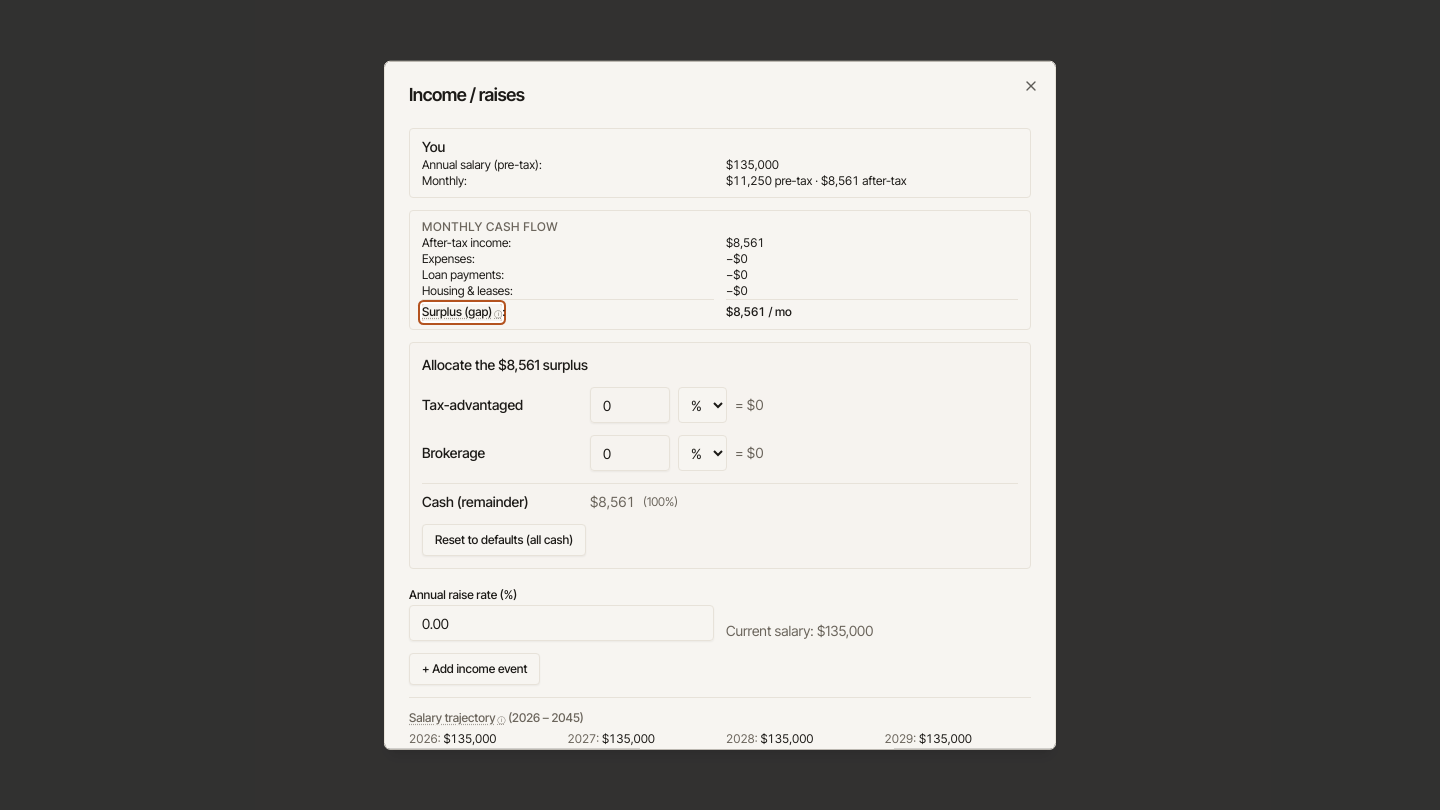
Test case: IncomePopover › sabbatical event renders the duration field
Click the button "+ Add income event" at (475, 669), box top-left (409, 653), bottom-right (540, 685)
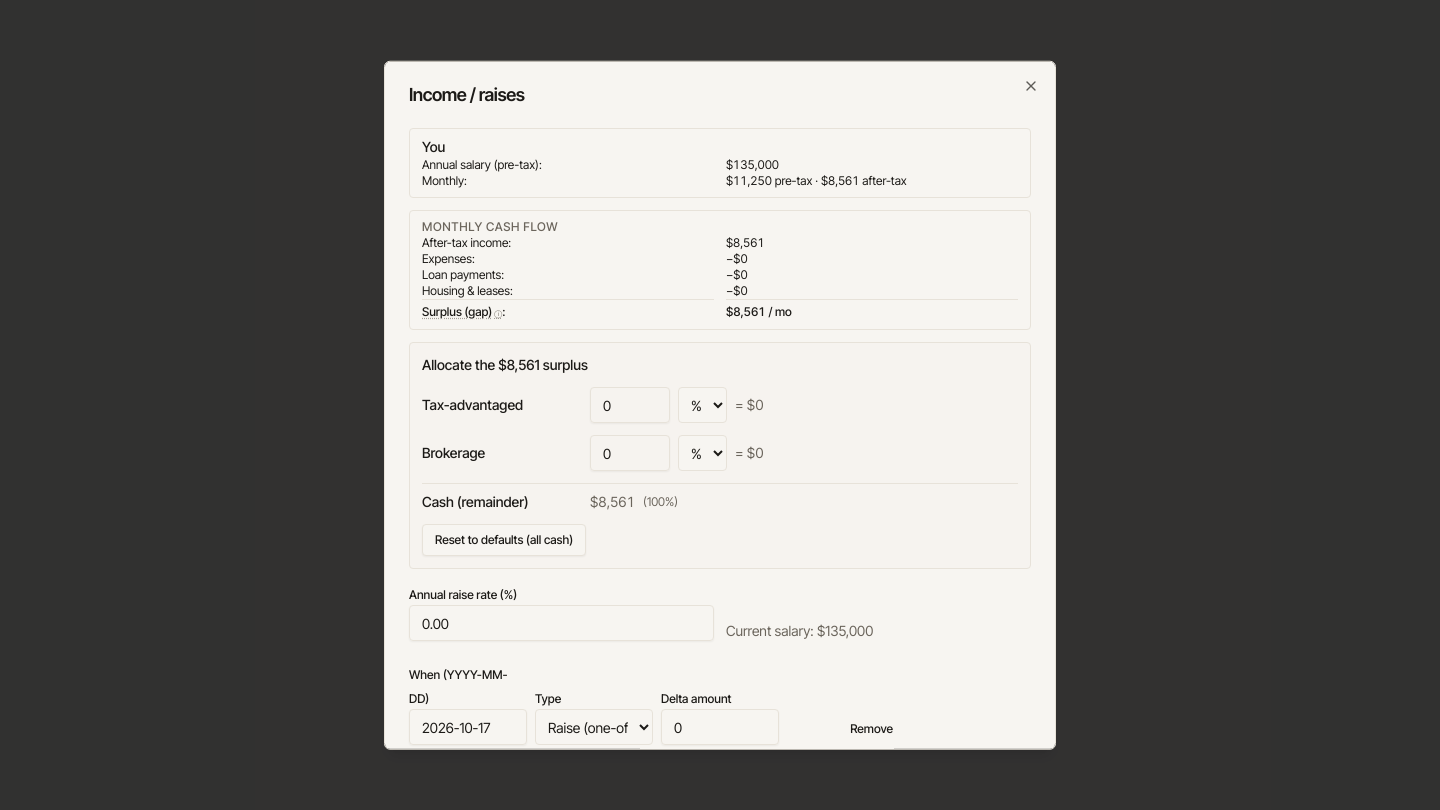
Select "Sabbatical (zero income N months)" in the dropdown labelled "Type" at (594, 727), box top-left (535, 709), bottom-right (653, 745)
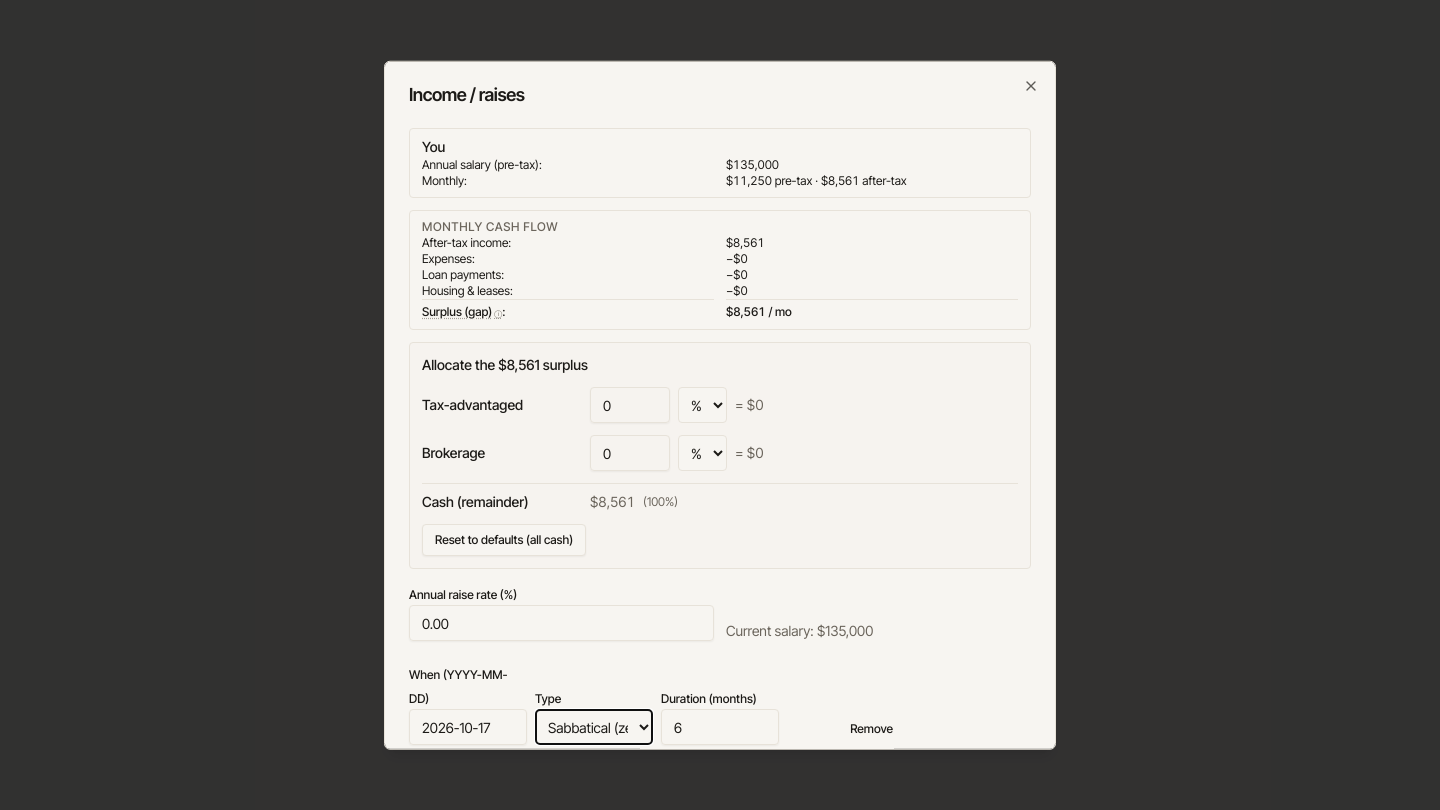
Expected: the number field labelled "Duration (months)" is shown, top-left (661, 709), bottom-right (779, 745)
